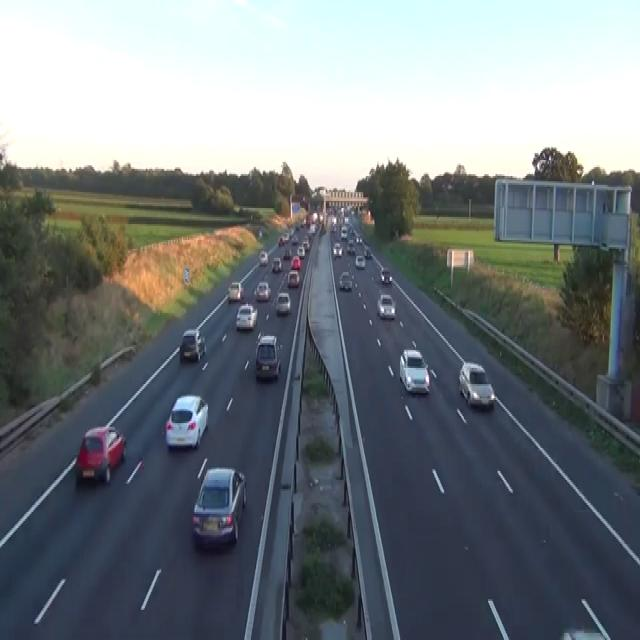Car: (191, 466, 247, 548), (75, 425, 126, 483), (164, 393, 208, 450), (559, 598, 612, 638), (458, 361, 495, 409), (399, 348, 429, 393), (254, 332, 282, 380), (179, 327, 206, 361), (235, 302, 257, 331), (376, 292, 396, 318), (560, 628, 610, 638), (227, 281, 244, 302), (275, 292, 291, 314), (254, 281, 271, 300), (339, 270, 352, 290), (287, 268, 299, 286), (380, 266, 392, 282), (332, 242, 343, 258), (271, 256, 282, 272), (290, 254, 301, 270), (259, 249, 268, 265), (355, 254, 365, 268), (346, 240, 355, 254), (363, 245, 371, 258), (297, 245, 305, 258), (302, 238, 310, 251), (283, 247, 291, 260), (340, 226, 347, 238), (309, 224, 316, 235), (348, 231, 355, 242), (305, 213, 310, 226), (355, 234, 362, 243), (291, 234, 298, 243), (278, 237, 284, 246), (283, 233, 289, 242), (312, 212, 317, 222), (331, 222, 336, 231), (344, 215, 349, 224), (258, 228, 262, 238), (319, 212, 323, 222)
